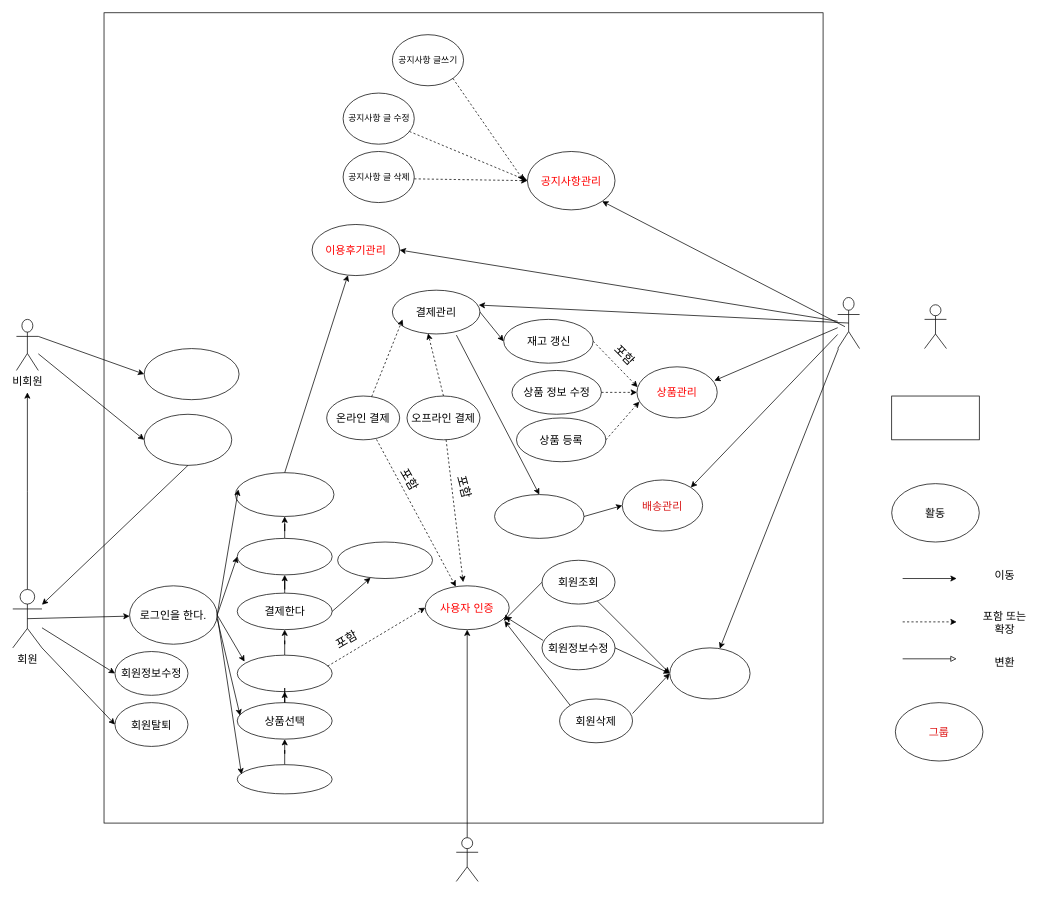
Image size: 1047x913. Some labels were removed from this diagram. Each missing label, with the centre of its shape:
System: pixel 935 417
결제내역 확인: pixel 385 560
관리자: pixel 848 323
구매 후기 작성: pixel 284 494
구매확정: pixel 284 556
배송정보확인가능: pixel 539 516
사용자: pixel 935 326
상품검색: pixel 284 779
상품목록으로 이동한다: pixel 191 374
상품주문: pixel 284 673
인증회사: pixel 467 859
회원가입을 한다.: pixel 187 439
회원관리: pixel 709 673
